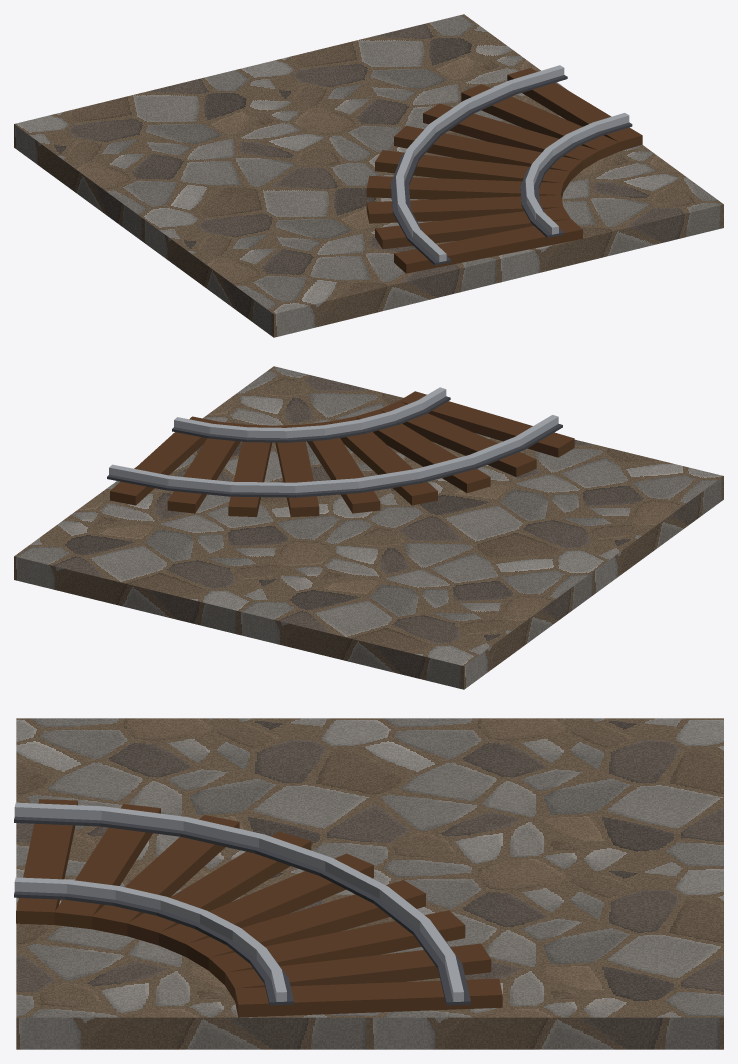
File: mine_floor_rails_curve.glb
3 views of the same model, one above another, from view 1: azimuth 30°, elevation 25°; view 2: azimuth 150°, elevation 25°; view 3: azimuth 270°, elevation 25° (orthographic). The views are drawn at different scales.
Parts seen in each view (by area): view 1: mine_floor_rails_curve; view 2: mine_floor_rails_curve; view 3: mine_floor_rails_curve.
Boxes of the visible parts, <box> form: mine_floor_rails_curve: <box>14,14,723,337</box>; mine_floor_rails_curve: <box>14,366,723,689</box>; mine_floor_rails_curve: <box>14,718,723,1049</box>.
Size of what is drawn, in the model's own units: 4.01 by 0.36 by 4.01.
Materials: 4 (1 with a texture image).
